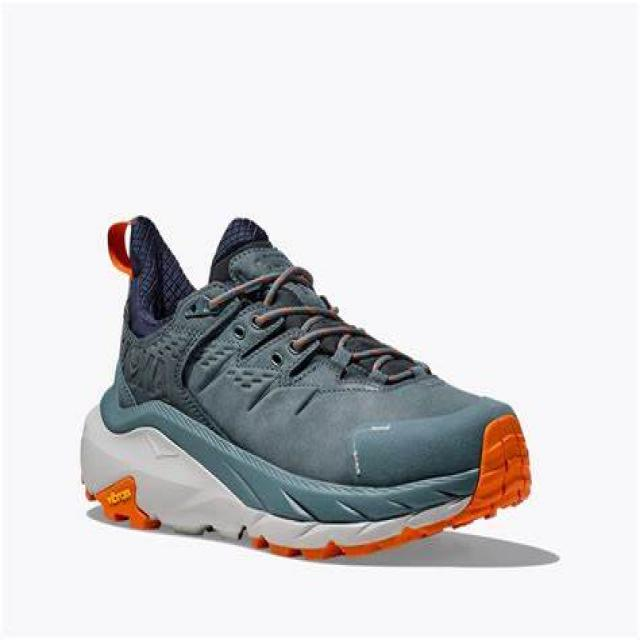shoe: (65, 198, 547, 569)
